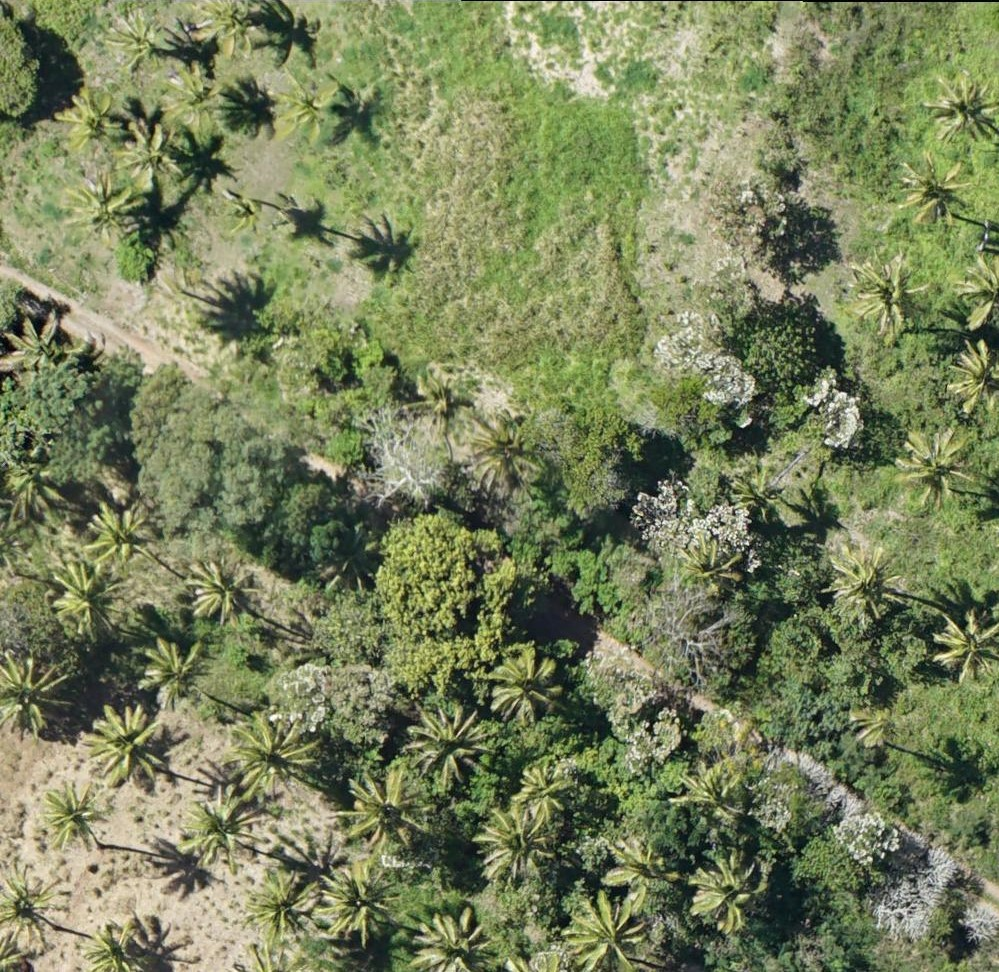Palm: (402, 703, 490, 791), (83, 706, 170, 787), (235, 708, 316, 791), (347, 766, 426, 851), (565, 895, 652, 972), (3, 649, 77, 737), (473, 805, 551, 887), (190, 790, 264, 874), (894, 426, 968, 503), (467, 412, 545, 485), (928, 70, 999, 150), (318, 862, 388, 941), (830, 541, 900, 619), (2, 863, 61, 955), (602, 834, 670, 911), (185, 553, 255, 627), (896, 153, 966, 226), (414, 907, 492, 972), (251, 870, 319, 944), (689, 859, 757, 933), (53, 89, 121, 162), (860, 258, 926, 332), (65, 172, 139, 238), (161, 61, 228, 133), (82, 496, 152, 564), (38, 781, 106, 850), (937, 606, 999, 681), (135, 635, 203, 703), (48, 564, 114, 634), (681, 534, 745, 601), (101, 9, 165, 76), (273, 71, 329, 143), (124, 121, 185, 185), (195, 1, 263, 58), (678, 762, 739, 819), (516, 760, 572, 819), (83, 923, 148, 972), (228, 186, 271, 237)
